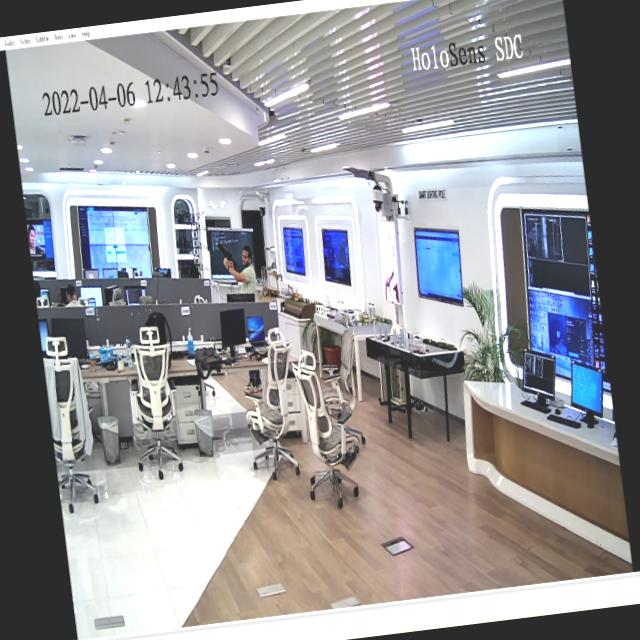long weapon: (217, 238, 240, 280)
